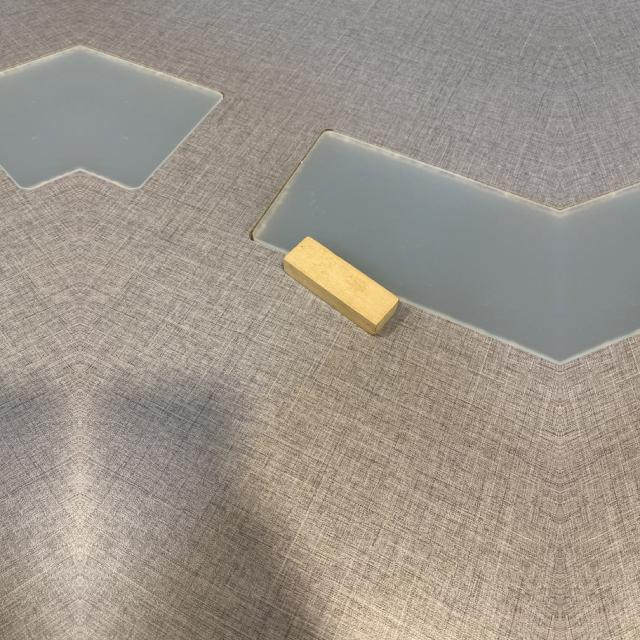jenga: (282, 238, 399, 336)
